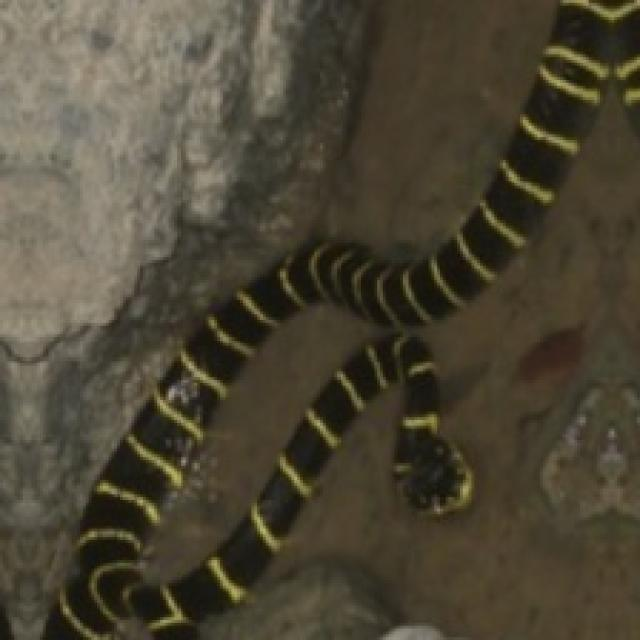mangrove cat snake: (49, 1, 640, 640)
